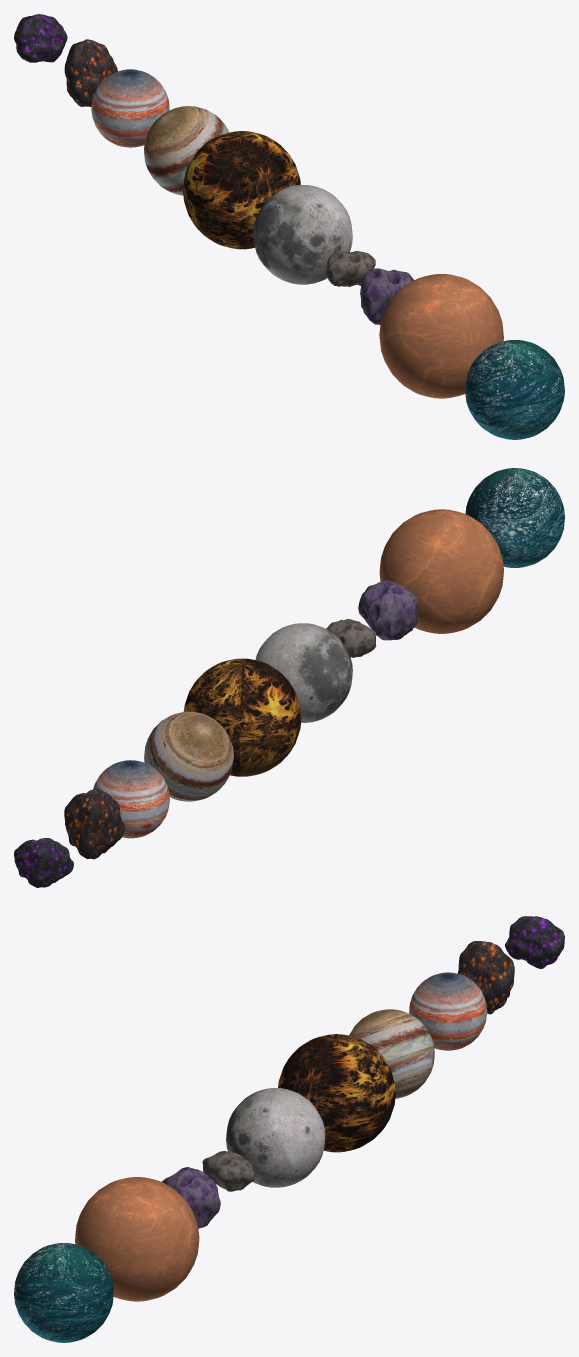
File: Meteorite_s.fbx
3 renders of one model, top to bottom at view 1: azimuth 30°, elevation 25°; view 2: azimuth 150°, elevation 25°; view 3: azimuth 330°, elevation 25°, orthographic.
Visible parts, largest first — view 1: Earth, Venus, Earth1, pSphere1, Jupiter, Sphere, meteor_HP_Cube1, meteor_HP_Cube, Meteorite1, Meteorite; view 2: Earth, Venus, Earth1, pSphere1, Sphere, Jupiter, meteor_HP_Cube1, Meteorite1, meteor_HP_Cube, Meteorite; view 3: Earth, Venus, Earth1, pSphere1, Jupiter, Sphere, meteor_HP_Cube1, meteor_HP_Cube, Meteorite1, Meteorite.
Boxes of the visible parts, left/top/right/bottom form: Earth: left=379, top=274, right=503, bottom=398; Venus: left=183, top=131, right=300, bottom=249; Earth1: left=465, top=340, right=564, bottom=439; pSphere1: left=253, top=185, right=352, bottom=284; Jupiter: left=91, top=69, right=169, bottom=147; Sphere: left=144, top=106, right=229, bottom=195; meteor_HP_Cube1: left=64, top=39, right=117, bottom=107; meteor_HP_Cube: left=14, top=14, right=67, bottom=62; Meteorite1: left=360, top=268, right=413, bottom=324; Meteorite: left=326, top=251, right=375, bottom=286; Earth: left=379, top=509, right=503, bottom=633; Venus: left=183, top=658, right=301, bottom=776; Earth1: left=465, top=468, right=564, bottom=567; pSphere1: left=255, top=623, right=352, bottom=722; Sphere: left=144, top=711, right=233, bottom=801; Jupiter: left=93, top=760, right=169, bottom=838; meteor_HP_Cube1: left=64, top=789, right=124, bottom=859; Meteorite1: left=358, top=579, right=417, bottom=640; meteor_HP_Cube: left=14, top=838, right=73, bottom=887; Meteorite: left=326, top=619, right=376, bottom=657; Earth: left=75, top=1177, right=199, bottom=1301; Venus: left=278, top=1034, right=395, bottom=1152; Earth1: left=14, top=1243, right=113, bottom=1342; pSphere1: left=226, top=1088, right=325, bottom=1187; Jupiter: left=409, top=972, right=487, bottom=1050; Sphere: left=349, top=1009, right=434, bottom=1098; meteor_HP_Cube1: left=457, top=941, right=514, bottom=1014; meteor_HP_Cube: left=505, top=916, right=564, bottom=968; Meteorite1: left=162, top=1167, right=220, bottom=1228; Meteorite: left=202, top=1151, right=255, bottom=1191.
Size of the model in its own units: 315 by 315 by 2572.
10 materials, 10 textured.
